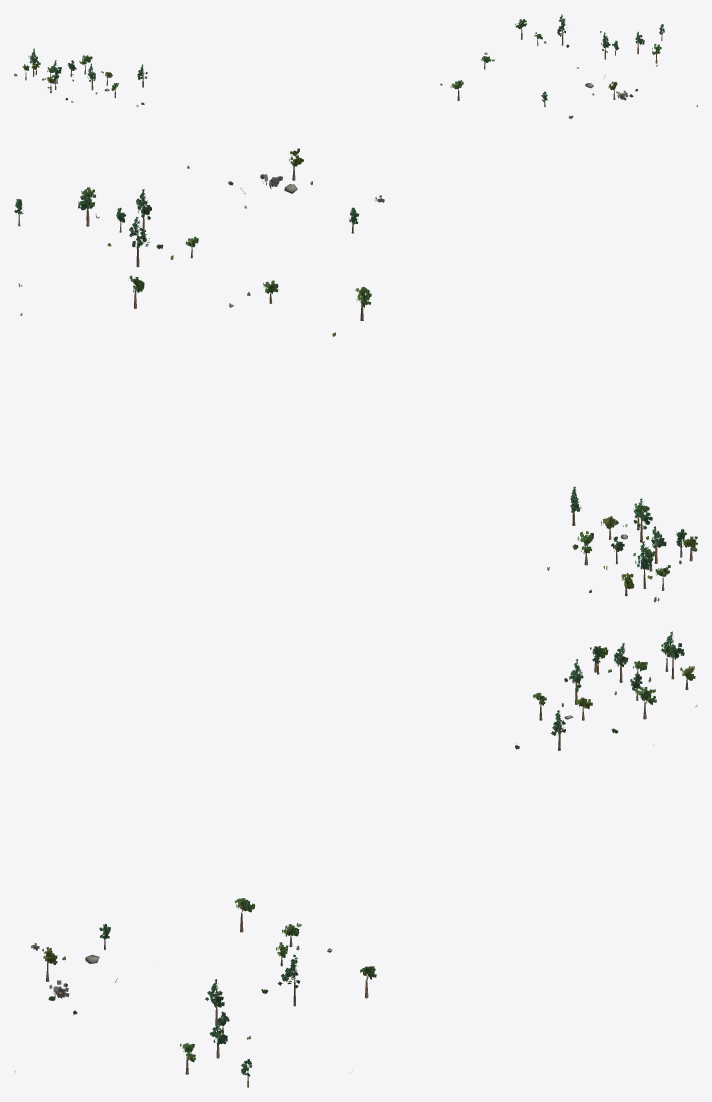
Rendered from arch_land_scatter_c19_18.glb.
3 renders of one model, top to bottom at view 1: azimuth 30°, elevation 25°; view 2: azimuth 150°, elevation 25°; view 3: azimuth 270°, elevation 25°, orthographic. The views are drawn at different scales.
Parts seen in each view (by area): view 1: arch_land_scatter_c19_18; view 2: arch_land_scatter_c19_18; view 3: arch_land_scatter_c19_18.
Boxes of the visible parts, <box> form: arch_land_scatter_c19_18: <box>14,14,697,118</box>; arch_land_scatter_c19_18: <box>14,148,697,602</box>; arch_land_scatter_c19_18: <box>14,631,697,1087</box>.
Size of the model in its own units: 257 by 24.6 by 173.
